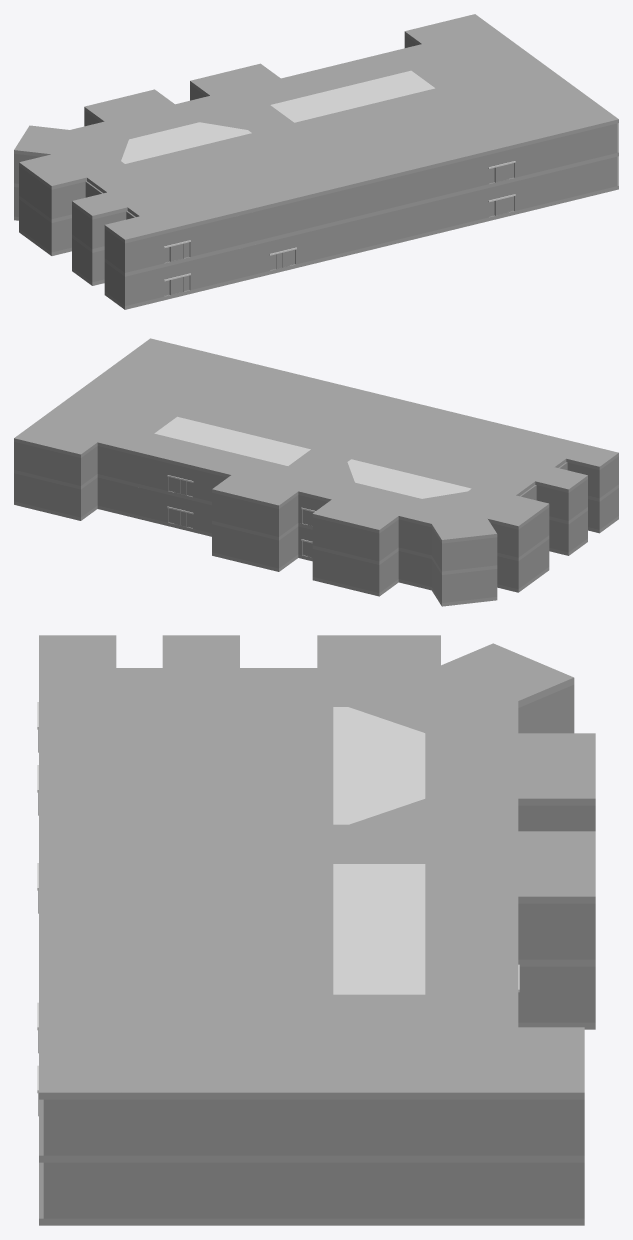
File: shopping.fbx
3 renders of one model, top to bottom at view 1: azimuth 30°, elevation 25°; view 2: azimuth 150°, elevation 25°; view 3: azimuth 270°, elevation 25°, orthographic. The views are drawn at different scales.
Visible parts, largest first — view 1: RoofGlass.002, RoofGlass.001, FirstWall.037, SecondWall.023, SecondWall.019, FirstWall.028, FirstWall.038, SecondWall.020, SecondWall.021, FirstWall.027, FirstWall.029, FirstWall.077 (+117 smaller); view 2: RoofGlass.002, RoofGlass.001, FirstWall.053, SecondWall.012, SecondWall.013, FirstWall.051, FirstWall.054, FirstWall.056, SecondWall.011, SecondWall.043, FirstWall.071, FirstWall.080 (+122 smaller); view 3: RoofGlass.002, RoofGlass.001, FirstWall.087, SecondWall.034, FirstWall.082, FirstWall.083, FirstWall.084, FirstWall.089, FirstWall.091, SecondWall.031, SecondWall.033, SecondWall.035 (+110 smaller).
Boxes of the visible parts, bbox=[...] form: RoofGlass.002: bbox=[270, 70, 434, 122]; RoofGlass.001: bbox=[121, 122, 251, 163]; FirstWall.037: bbox=[336, 216, 371, 254]; SecondWall.023: bbox=[195, 217, 230, 255]; SecondWall.019: bbox=[266, 200, 301, 238]; FirstWall.028: bbox=[195, 251, 230, 288]; FirstWall.038: bbox=[301, 225, 336, 262]; SecondWall.020: bbox=[301, 192, 336, 229]; SecondWall.021: bbox=[336, 183, 371, 221]; FirstWall.027: bbox=[231, 242, 265, 280]; FirstWall.029: bbox=[126, 268, 160, 305]; FirstWall.077: bbox=[583, 156, 617, 194]; RoofGlass.002: bbox=[154, 416, 310, 465]; RoofGlass.001: bbox=[347, 459, 471, 498]; FirstWall.053: bbox=[245, 532, 279, 568]; SecondWall.012: bbox=[245, 501, 279, 536]; SecondWall.013: bbox=[346, 525, 380, 561]; FirstWall.051: bbox=[346, 557, 380, 592]; FirstWall.054: bbox=[212, 524, 245, 560]; FirstWall.056: bbox=[97, 477, 130, 513]; SecondWall.011: bbox=[212, 492, 245, 528]; SecondWall.043: bbox=[398, 519, 431, 555]; FirstWall.071: bbox=[398, 551, 431, 586]; FirstWall.080: bbox=[14, 473, 47, 509]; RoofGlass.002: bbox=[333, 864, 425, 994]; RoofGlass.001: bbox=[333, 707, 425, 824]; FirstWall.087: bbox=[198, 1162, 275, 1218]; SecondWall.034: bbox=[198, 1099, 275, 1155]; FirstWall.082: bbox=[43, 1162, 120, 1218]; FirstWall.083: bbox=[121, 1162, 198, 1218]; FirstWall.084: bbox=[275, 1162, 352, 1218]; FirstWall.089: bbox=[430, 1162, 507, 1218]; FirstWall.091: bbox=[352, 1162, 429, 1218]; SecondWall.031: bbox=[352, 1099, 429, 1155]; SecondWall.033: bbox=[430, 1099, 507, 1155]; SecondWall.035: bbox=[275, 1099, 352, 1155].
Size of the model in its own units: 7000 by 950 by 3610.
